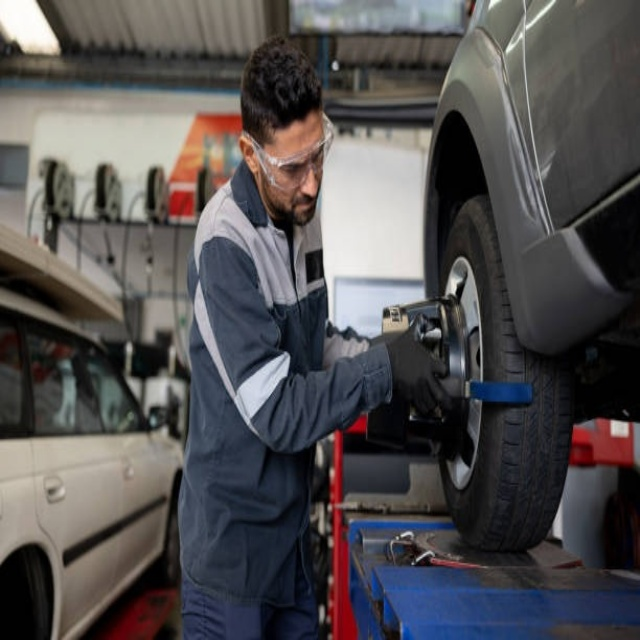Gafas: (245, 114, 334, 192)
Guantes: (378, 320, 456, 419)
Sin_mascara: (283, 188, 325, 226)
